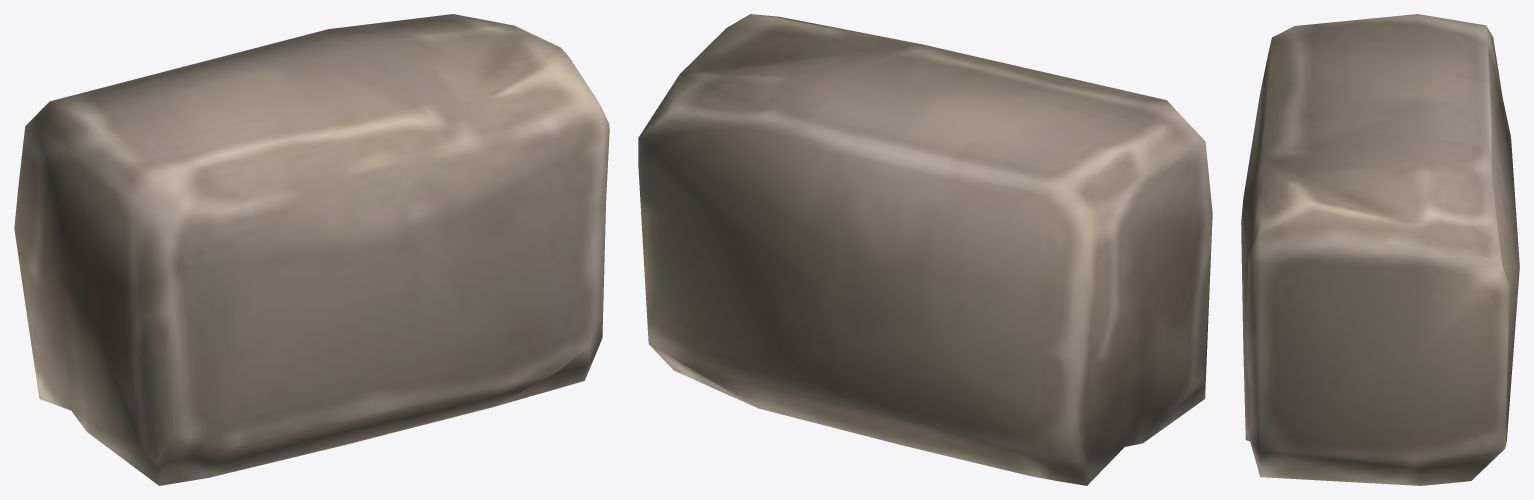
File: rubble_brick_3.glb
3 renders of one model, left to right at view 1: azimuth 30°, elevation 25°; view 2: azimuth 150°, elevation 25°; view 3: azimuth 270°, elevation 25°, orthographic. The views are drawn at different scales.
Parts seen in each view (by area): view 1: Prop_Brick3; view 2: Prop_Brick3; view 3: Prop_Brick3.
Part boxes in pixels (box(x1,y1,x2,y2)): Prop_Brick3: box(14, 14, 609, 485); Prop_Brick3: box(638, 14, 1212, 485); Prop_Brick3: box(1241, 14, 1519, 485).
Size of the model in its own units: 0.3814 by 0.2497 by 0.2156.
Materials: 1 (1 with a texture image).
